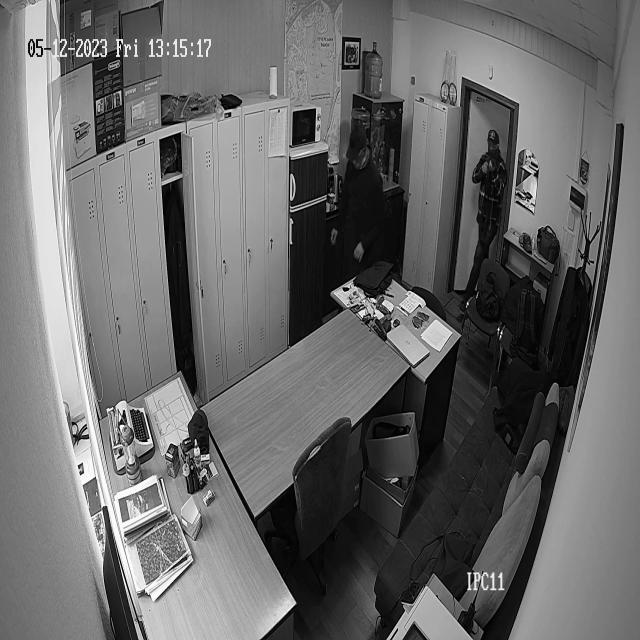gun: (482, 157, 496, 175)
person: (332, 132, 384, 282)
person with a gun: (461, 133, 508, 314)
